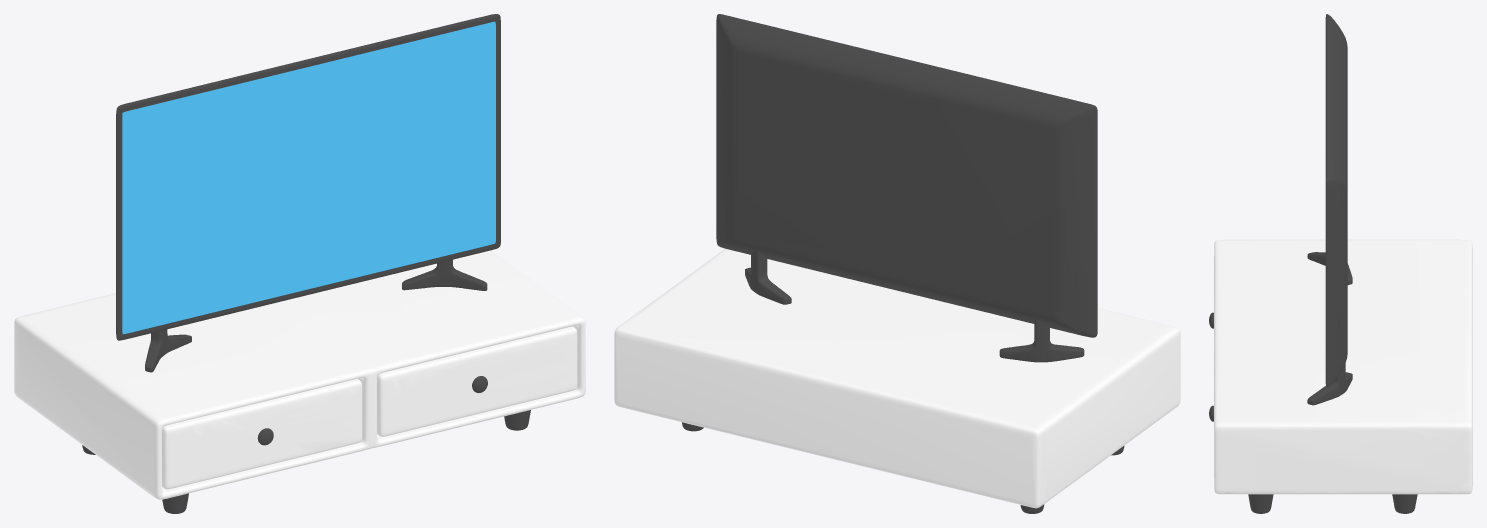
3 renders of one model, left to right at view 1: azimuth 30°, elevation 25°; view 2: azimuth 150°, elevation 25°; view 3: azimuth 270°, elevation 25°, orthographic. The views are drawn at different scales.
Parts seen in each view (by area): view 1: Cube; view 2: Cube; view 3: Cube.
Boxes of the visible parts, left/top/right/bottom form: Cube: left=14, top=14, right=585, bottom=513; Cube: left=614, top=14, right=1180, bottom=513; Cube: left=1209, top=14, right=1472, bottom=513.
Bounding box in the file's own units: 1.65 × 1.4 × 0.9836.
1 material, 1 textured.
